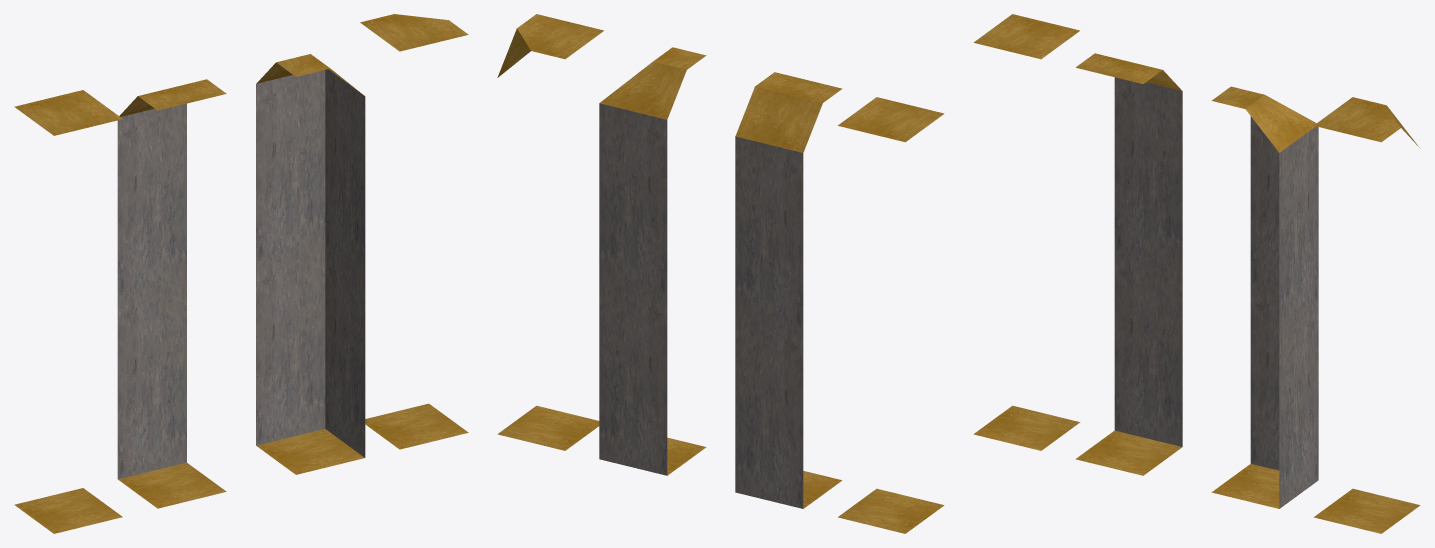
The model's file is churchIntTileset.glb.
3 renders of one model, left to right at view 1: azimuth 30°, elevation 25°; view 2: azimuth 150°, elevation 25°; view 3: azimuth 330°, elevation 25°, orthographic.
Parts seen in each view (by area): view 1: cornerIn-col, wall-col, floor-col, cornerOut-col; view 2: wall-col, cornerIn-col, cornerOut-col, floor-col; view 3: wall-col, cornerIn-col, floor-col, cornerOut-col.
Part boxes in pixels (x1,y1,x2,y2): cornerIn-col: (256,54,365,474); wall-col: (117,79,226,508); floor-col: (14,90,122,533); cornerOut-col: (360,14,468,449); wall-col: (735,72,842,508); cornerIn-col: (599,47,706,475); cornerOut-col: (497,14,603,450); floor-col: (837,97,944,533); wall-col: (1075,53,1182,475); cornerIn-col: (1211,86,1318,508); floor-col: (973,14,1080,450); cornerOut-col: (1313,97,1420,533).
Size of the model in its own units: 6 by 5.5 by 1.
Materials: 1 (1 with a texture image).
